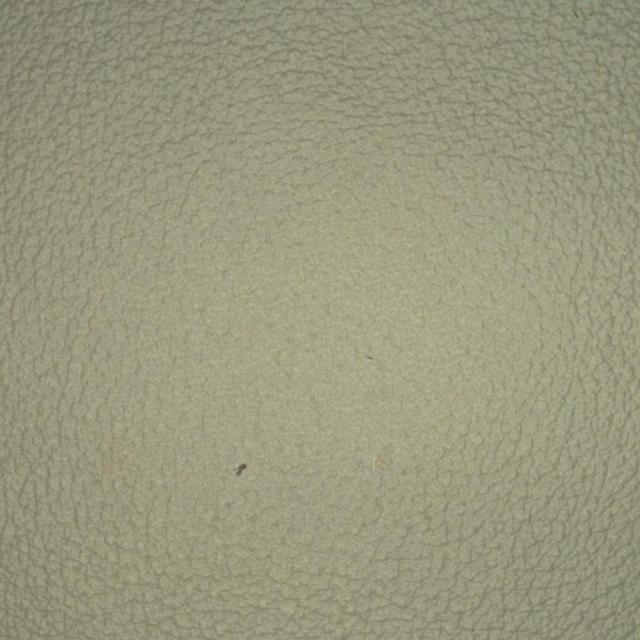pinhole: (179, 404, 302, 531)
